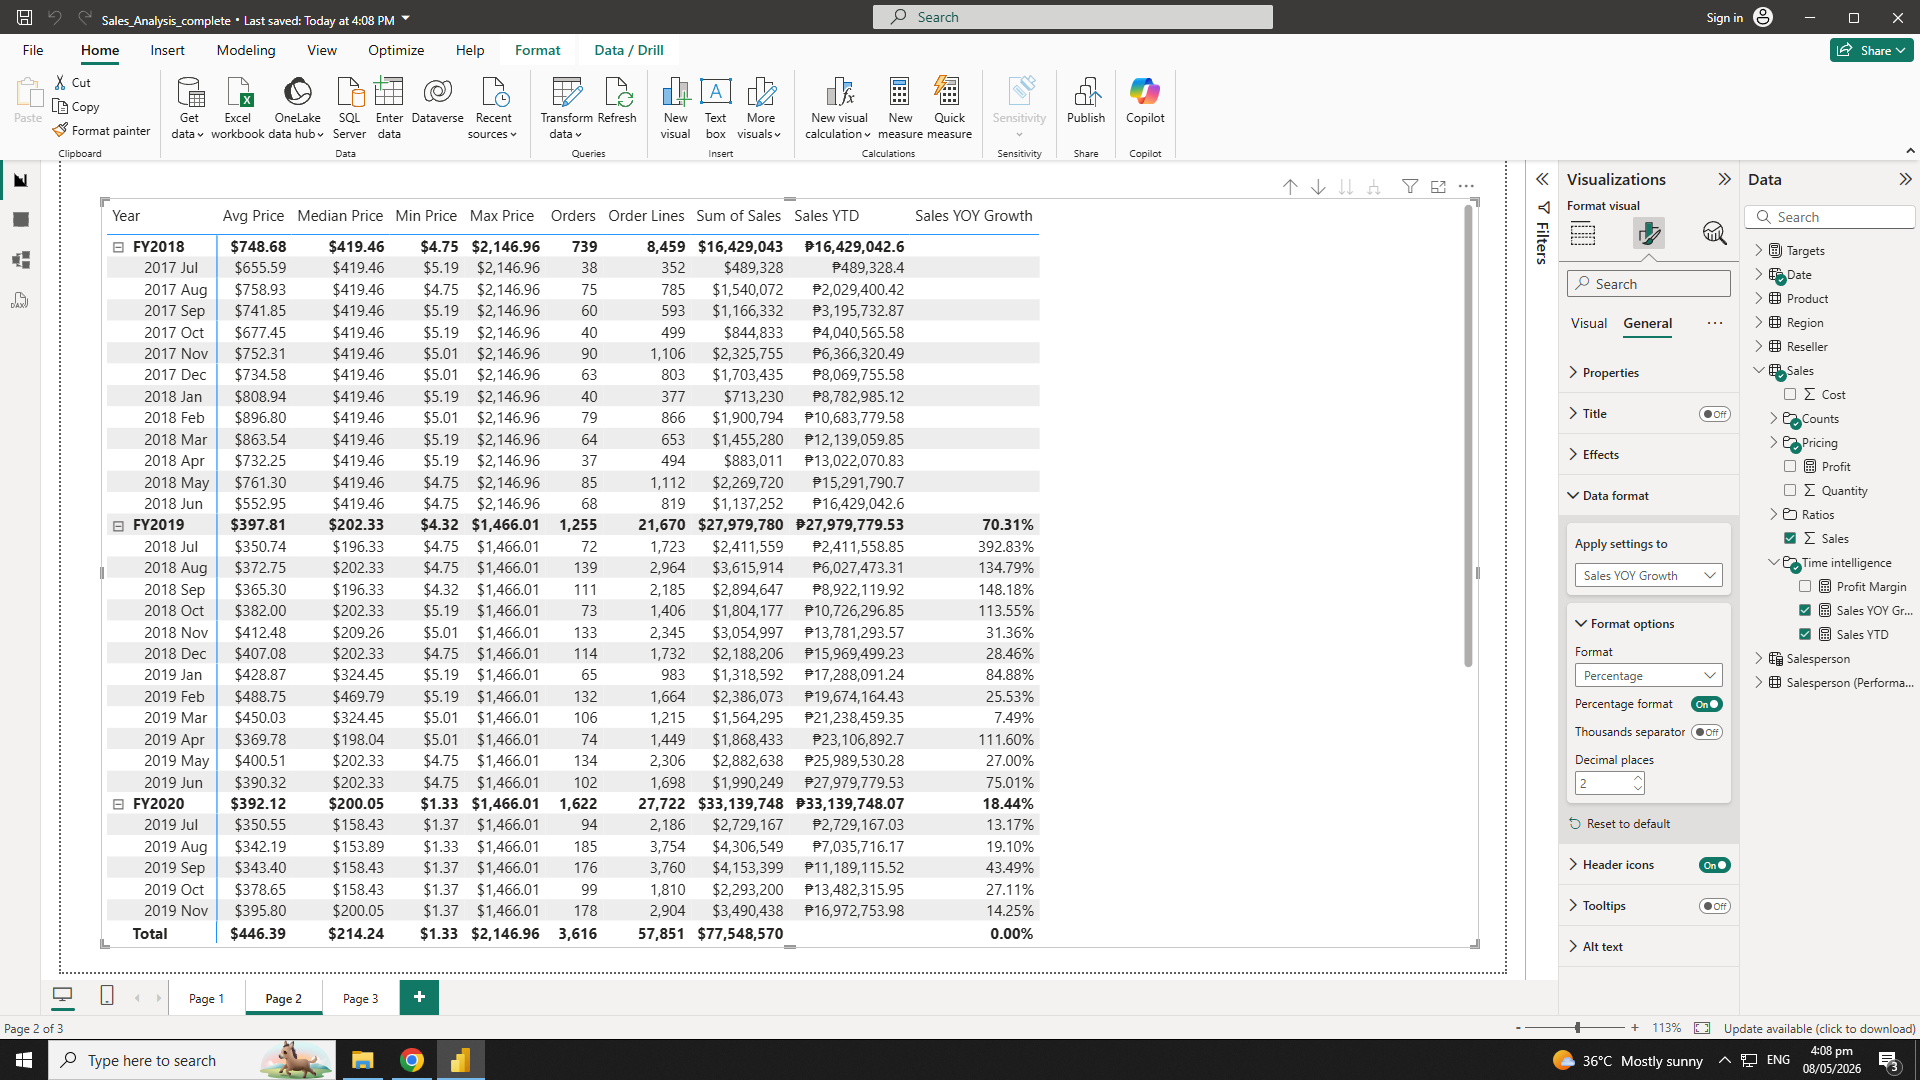

The page's visual inventory and layout, read from the dashboard file:
{"tool":"powerbi","page":{"name":"Profit","canvas":[1280,720],"ordinal":1},"visuals":[{"type":"slicer","fields":{"Values":["Region.Region"]},"box":[15.6,0,252.9,494.1],"z":0},{"type":"pivotTable","fields":{"Rows":["Date.Fiscal.Year","Date.Fiscal.Quarter","Date.Fiscal.Month","Product.Product","Product.Category","Product.Color"],"Values":["Sales.Orders","Sum(Sales.Sales)","Sum(Sales.Cost)","Sales.Profit","Sales.Profit Margin"],"Columns":["Product.Subcategory"]},"box":[213,31.1,1035.9,660.4],"z":1}]}

Visuals, with their boxes in screenshot pixels (x1, y1, x2, y2):
slicer - Region.Region: bbox=(34, 0, 422, 733)
pivotTable - Date.Fiscal.Year x Date.Fiscal.Quarter: bbox=(337, 23, 1919, 1036)
